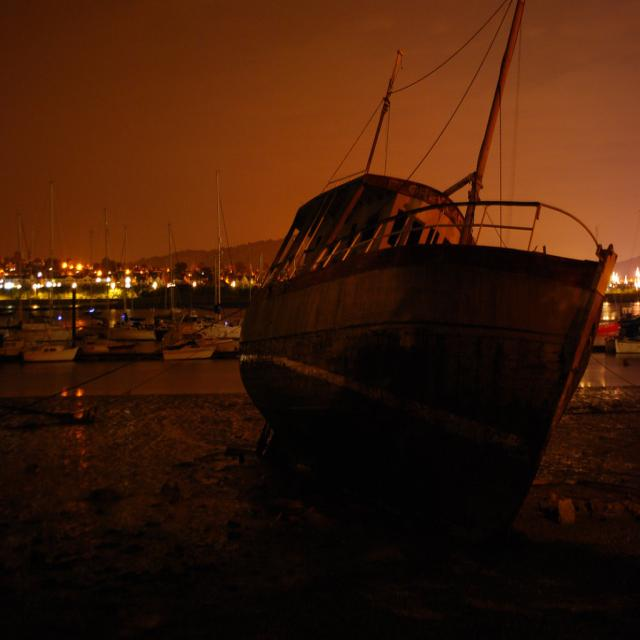Boat: (197, 81, 640, 525)
